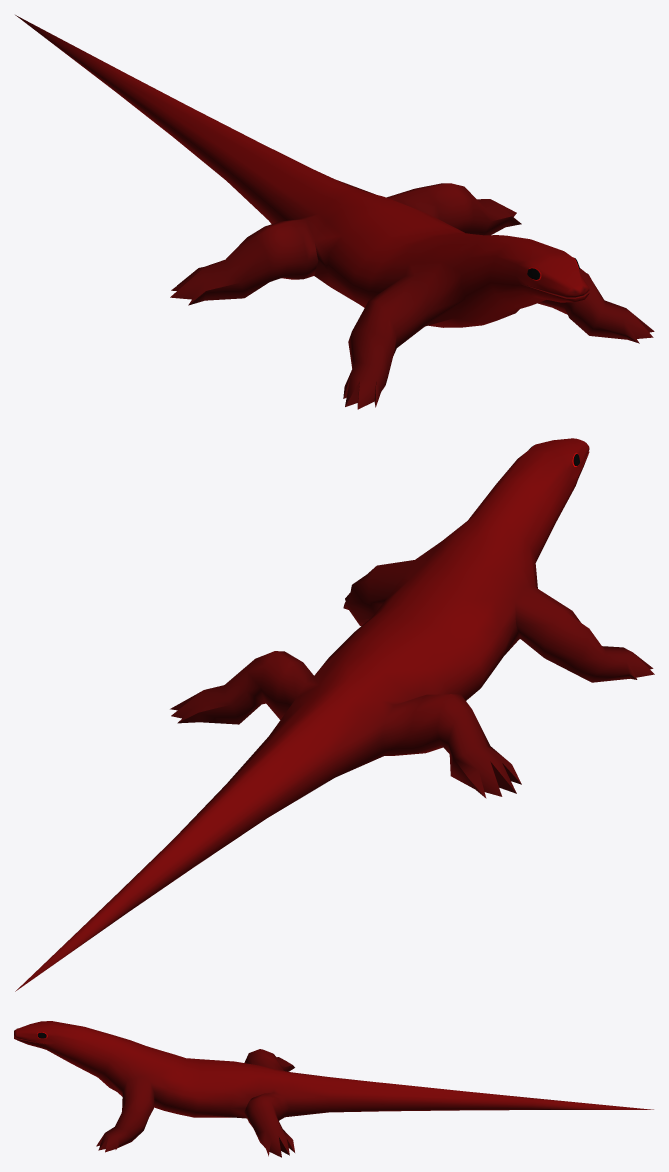
The model's file is Reptiles_KomodoDragon.fbx.
3 views of the same model, one above another, from view 1: azimuth 30°, elevation 25°; view 2: azimuth 150°, elevation 25°; view 3: azimuth 270°, elevation 25° (orthographic). The views are drawn at different scales.
Visible parts, largest first — view 1: base; view 2: base; view 3: base.
Boxes of the visible parts, x1,y1,x2,y2 form: base: (15,15,654,409); base: (15,438,654,991); base: (14,1021,653,1157).
Size of the model in its own units: 94.69 by 39.19 by 267.
